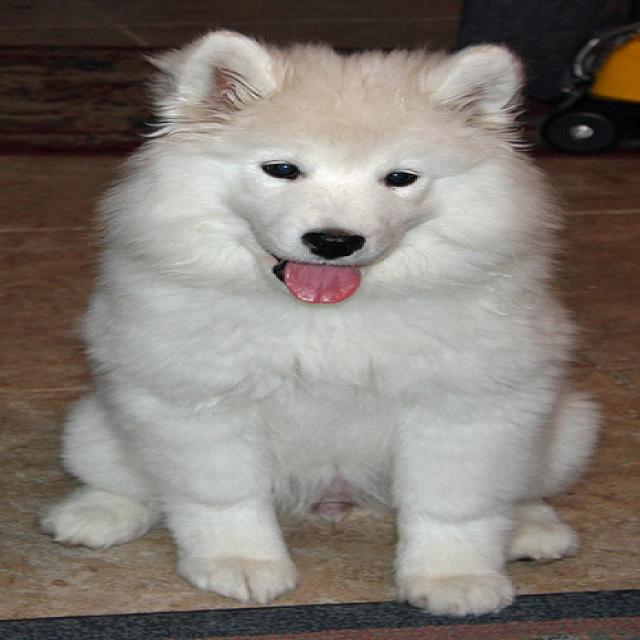dog-samoyed: (24, 23, 620, 622)
